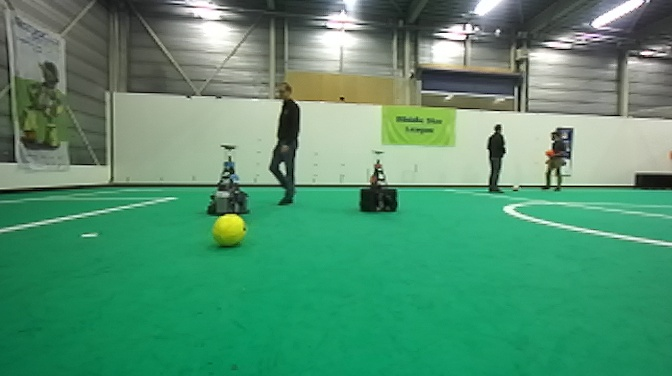ball: (211, 213, 245, 247), (510, 182, 521, 192), (542, 146, 552, 157)
human: (266, 83, 302, 206), (482, 123, 507, 193), (541, 131, 565, 191)
robot: (205, 143, 252, 217), (358, 150, 399, 214)
